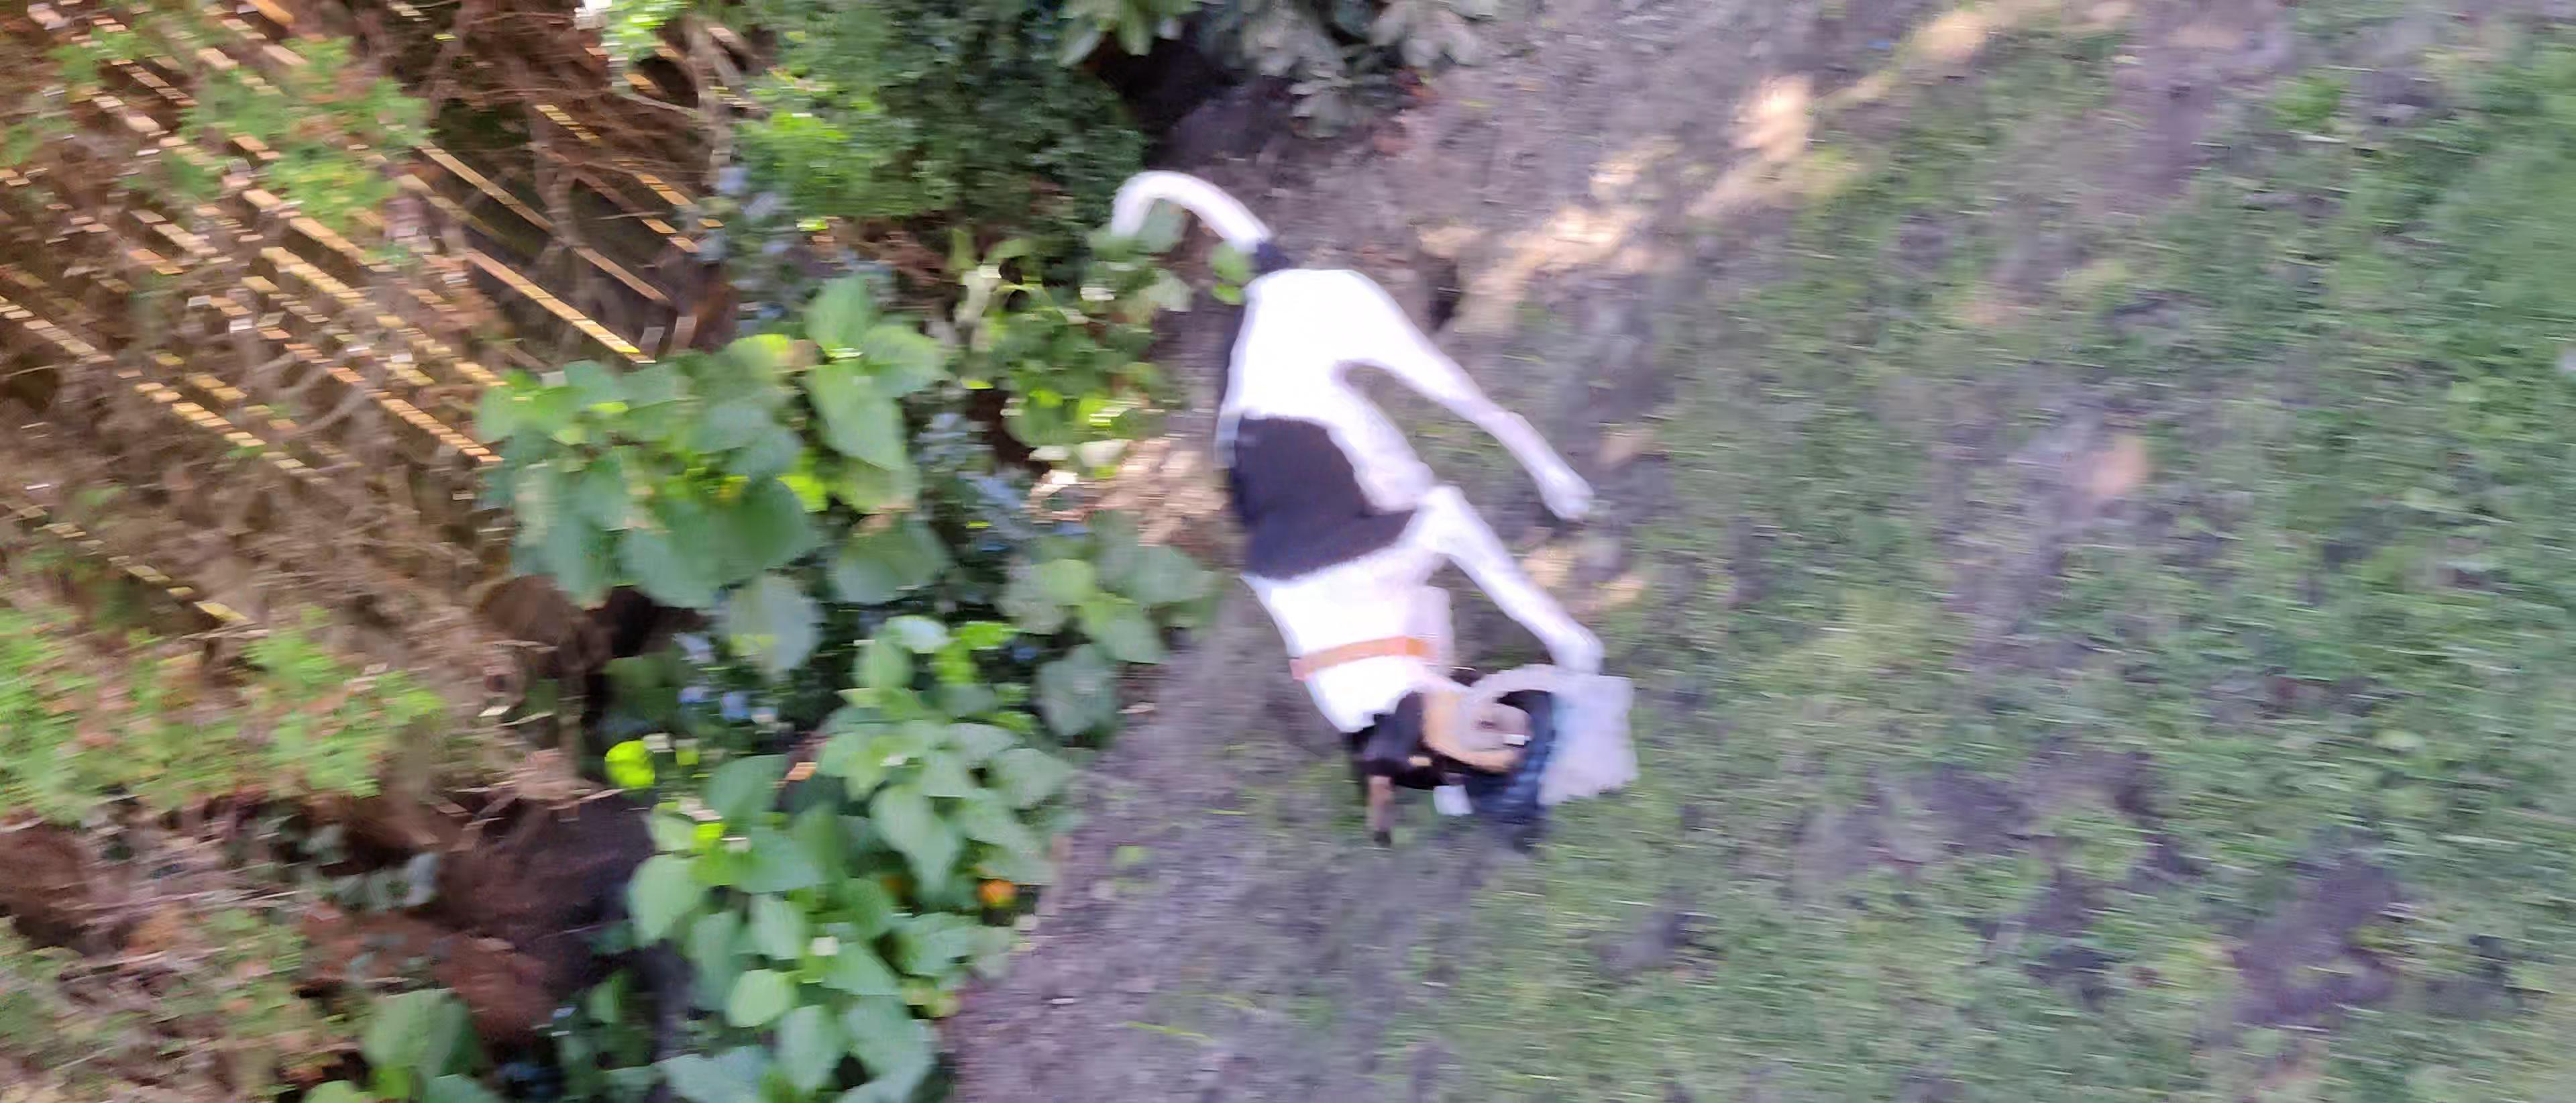Dog: (1083, 151, 1630, 851)
